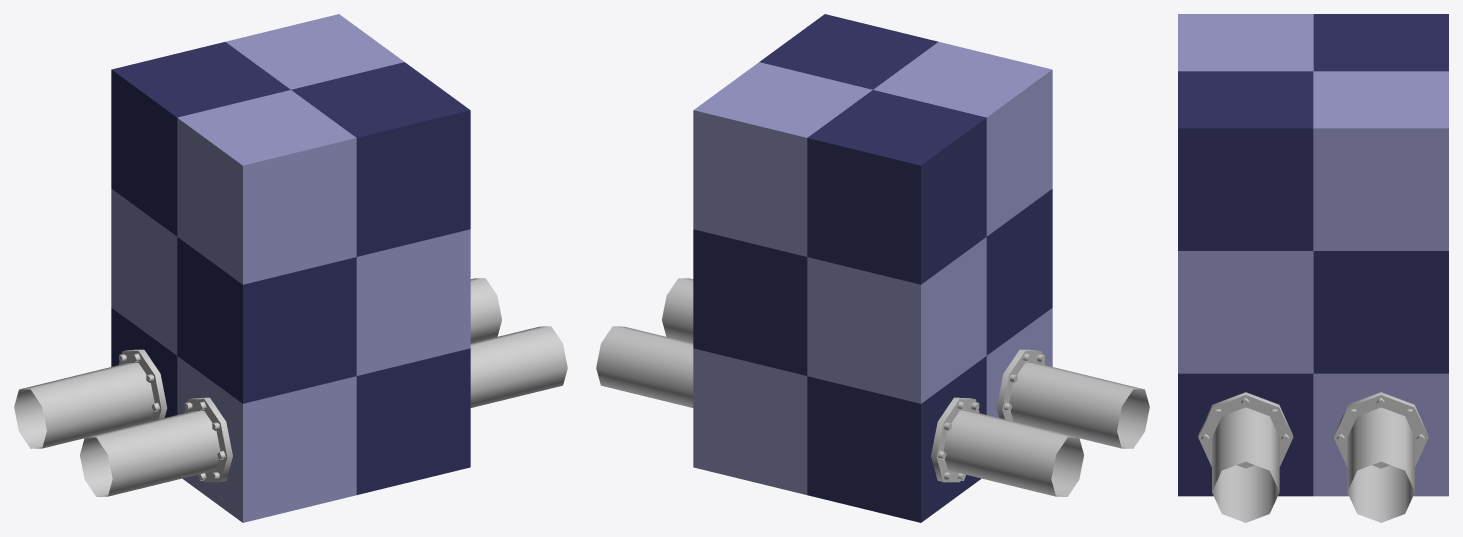
The model's file is SmallStorage_StorageFluidMini.obj.
3 views of the same model, side by side, from view 1: azimuth 30°, elevation 25°; view 2: azimuth 150°, elevation 25°; view 3: azimuth 270°, elevation 25° (orthographic). The views are drawn at different scales.
Bounding box in the file's own units: 8 × 6 × 4.
